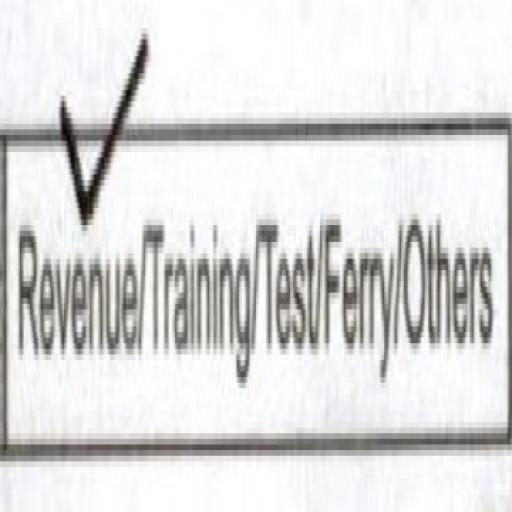check: (3, 0, 142, 512)
